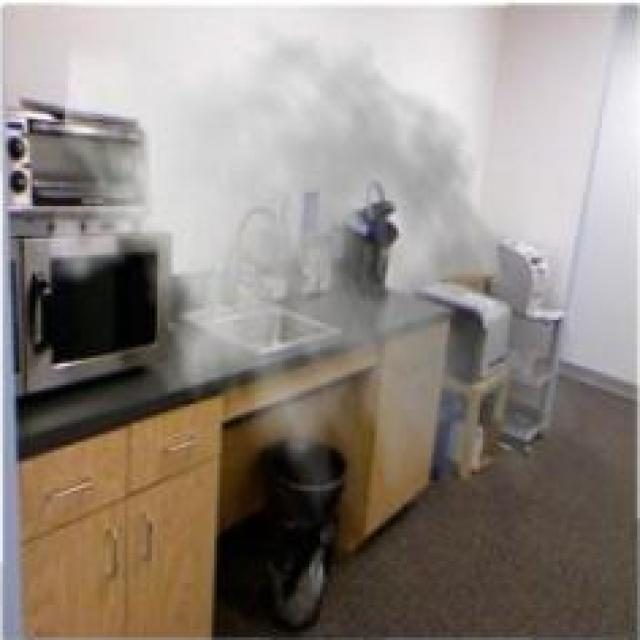fire: (46, 22, 589, 507)
